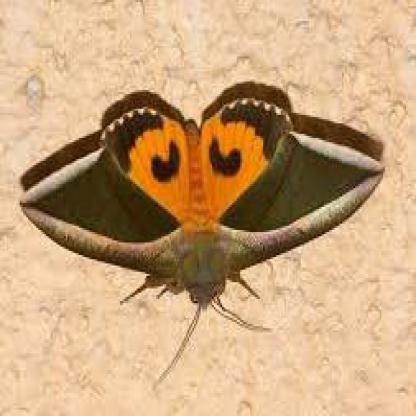fruit sucking moth: (17, 98, 384, 304)
